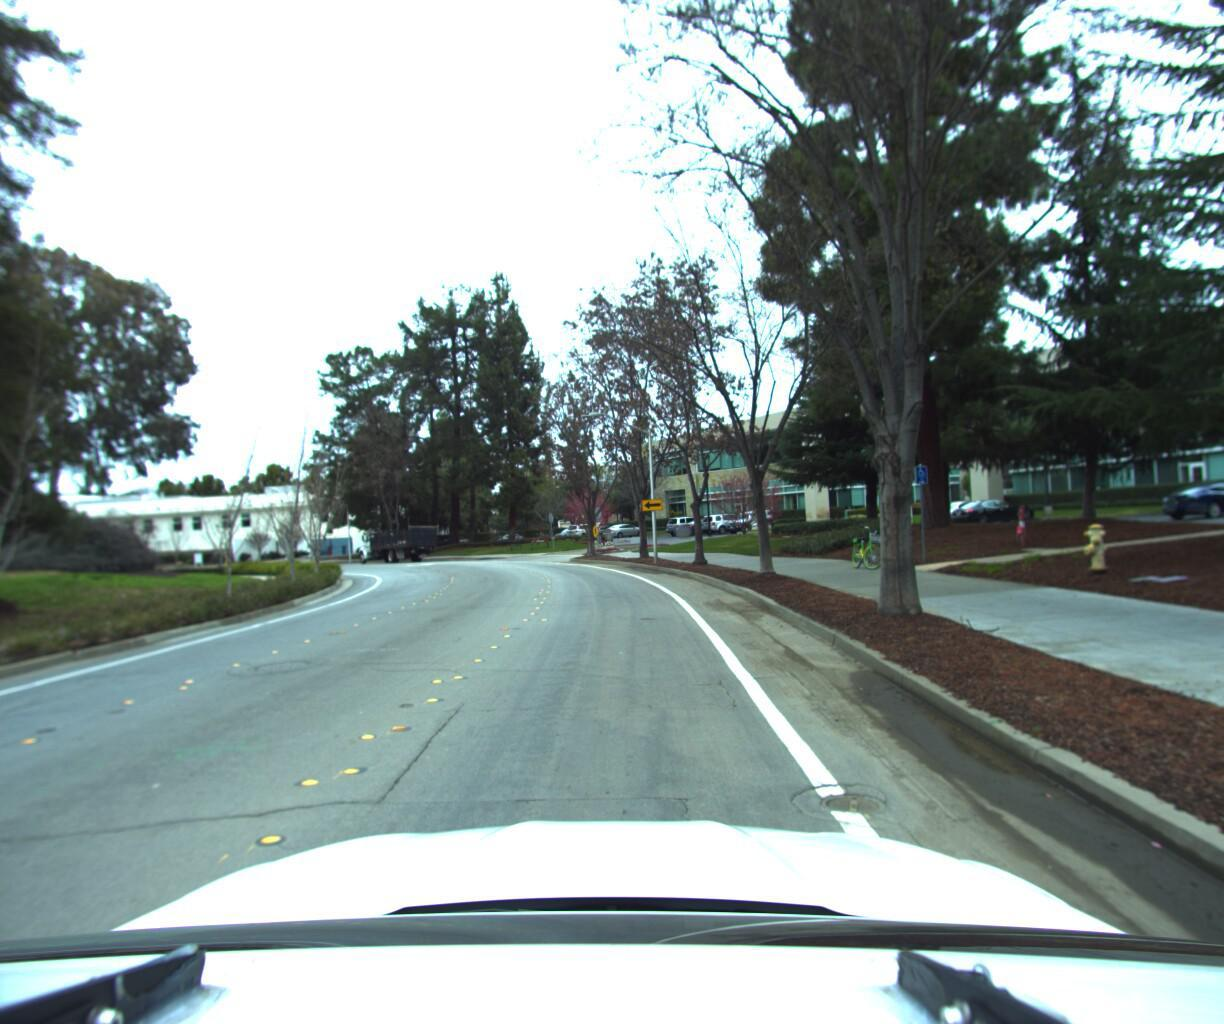bicycle: (838, 519, 895, 567)
truck: (357, 515, 443, 562)
